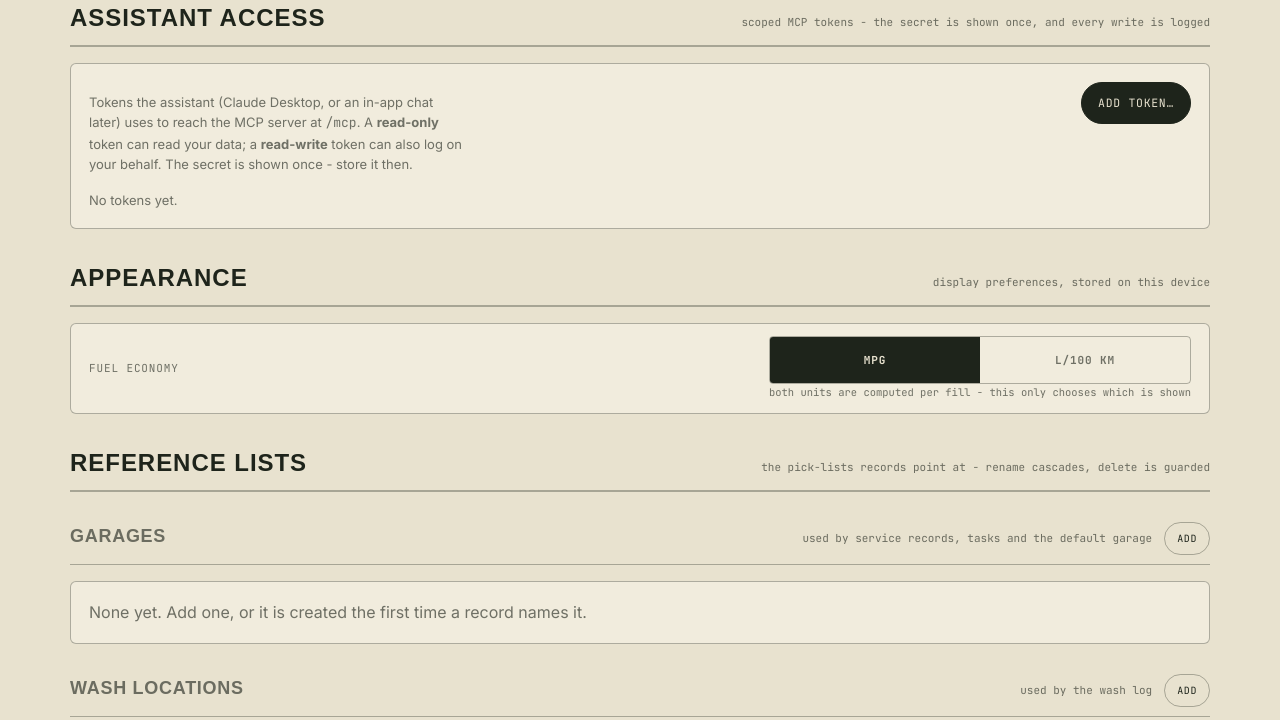
Scenario: the account page - appearance › switches the fuel-economy unit and persists the choice
(page scrolled)
Step 1. Click the radio button labelled "L/100 km" → (1085, 360), box x1=980 y1=337 x2=1190 y2=383
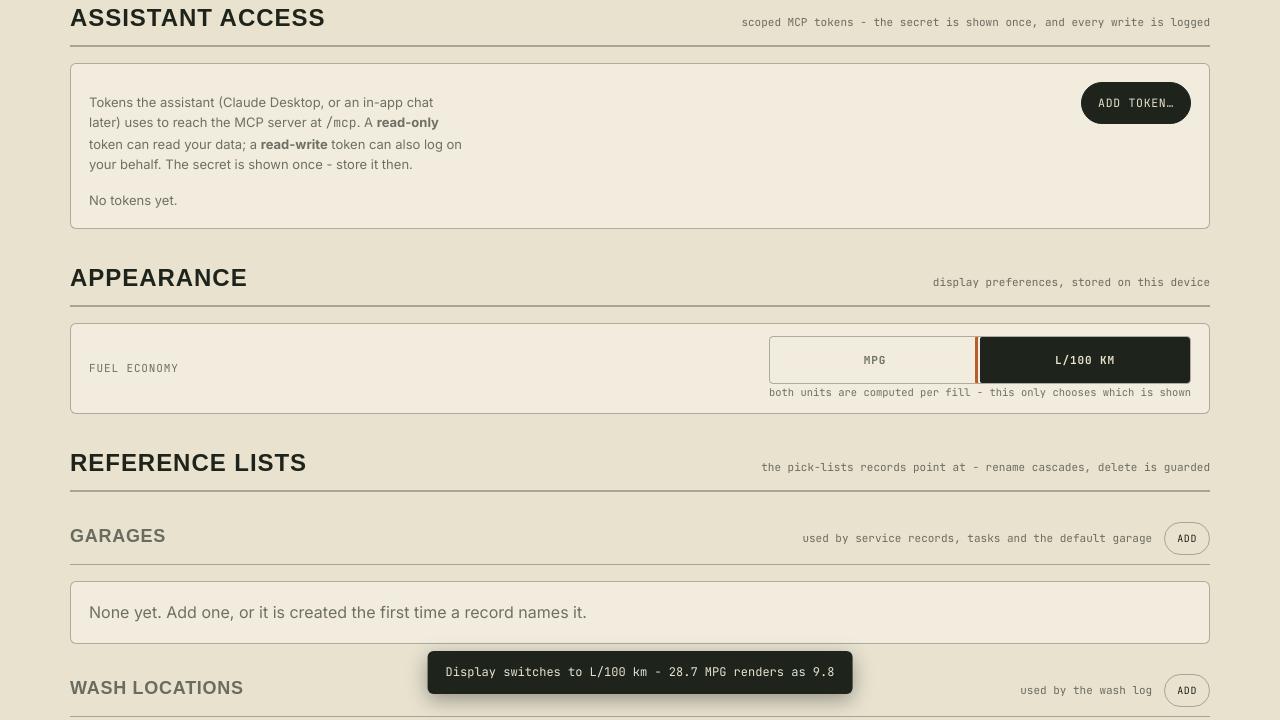
Expected: the text "Display switches to L/100 km - 28.7 MPG renders as 9.8" is shown, x1=428 y1=651 x2=852 y2=694
